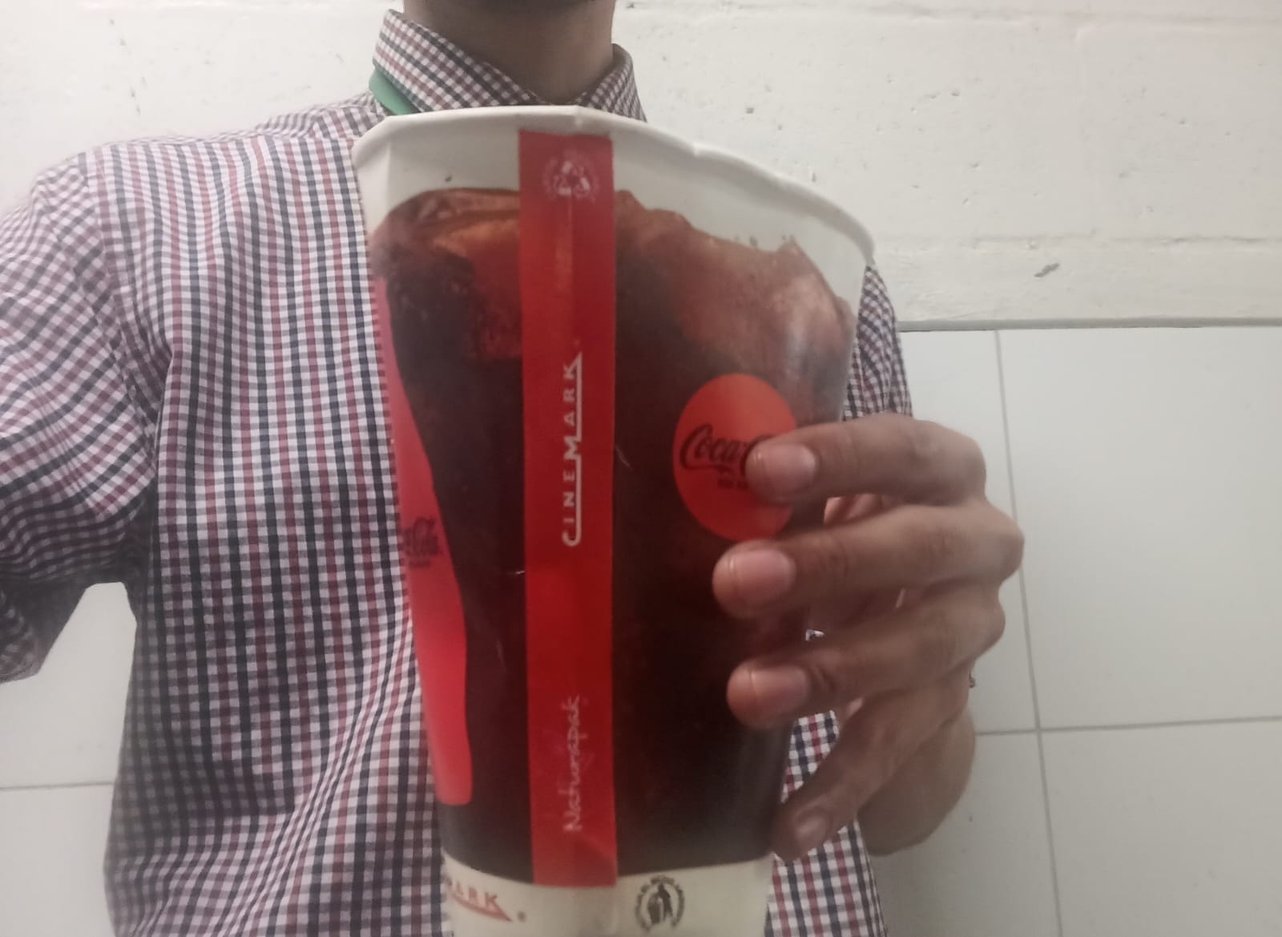Carton: (350, 104, 878, 937)
